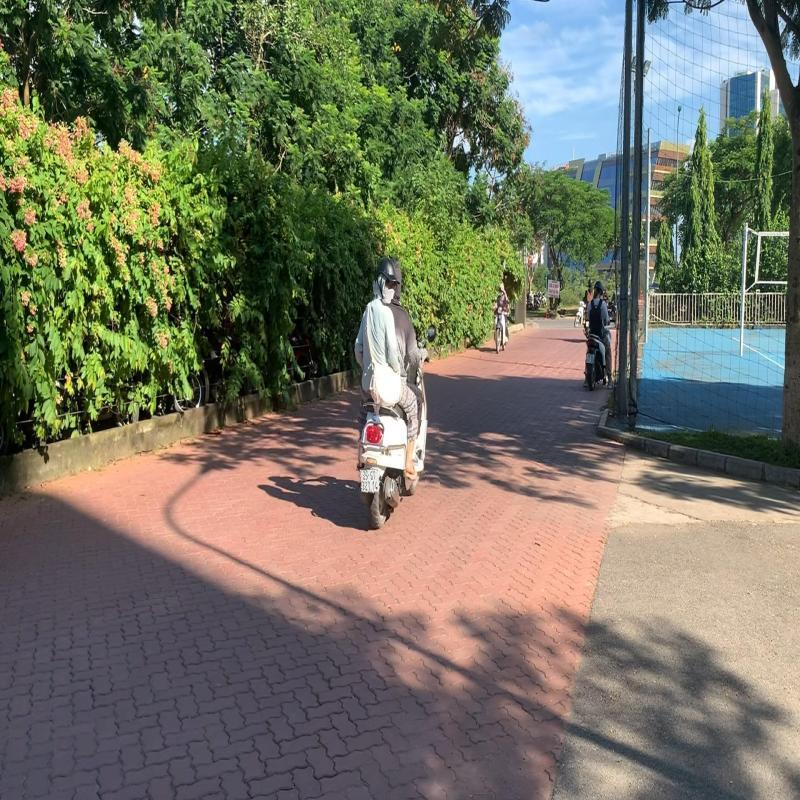helmet: (376, 256, 400, 299)
licenseplate: (357, 466, 382, 497)
motorcyclist: (351, 251, 439, 532)
